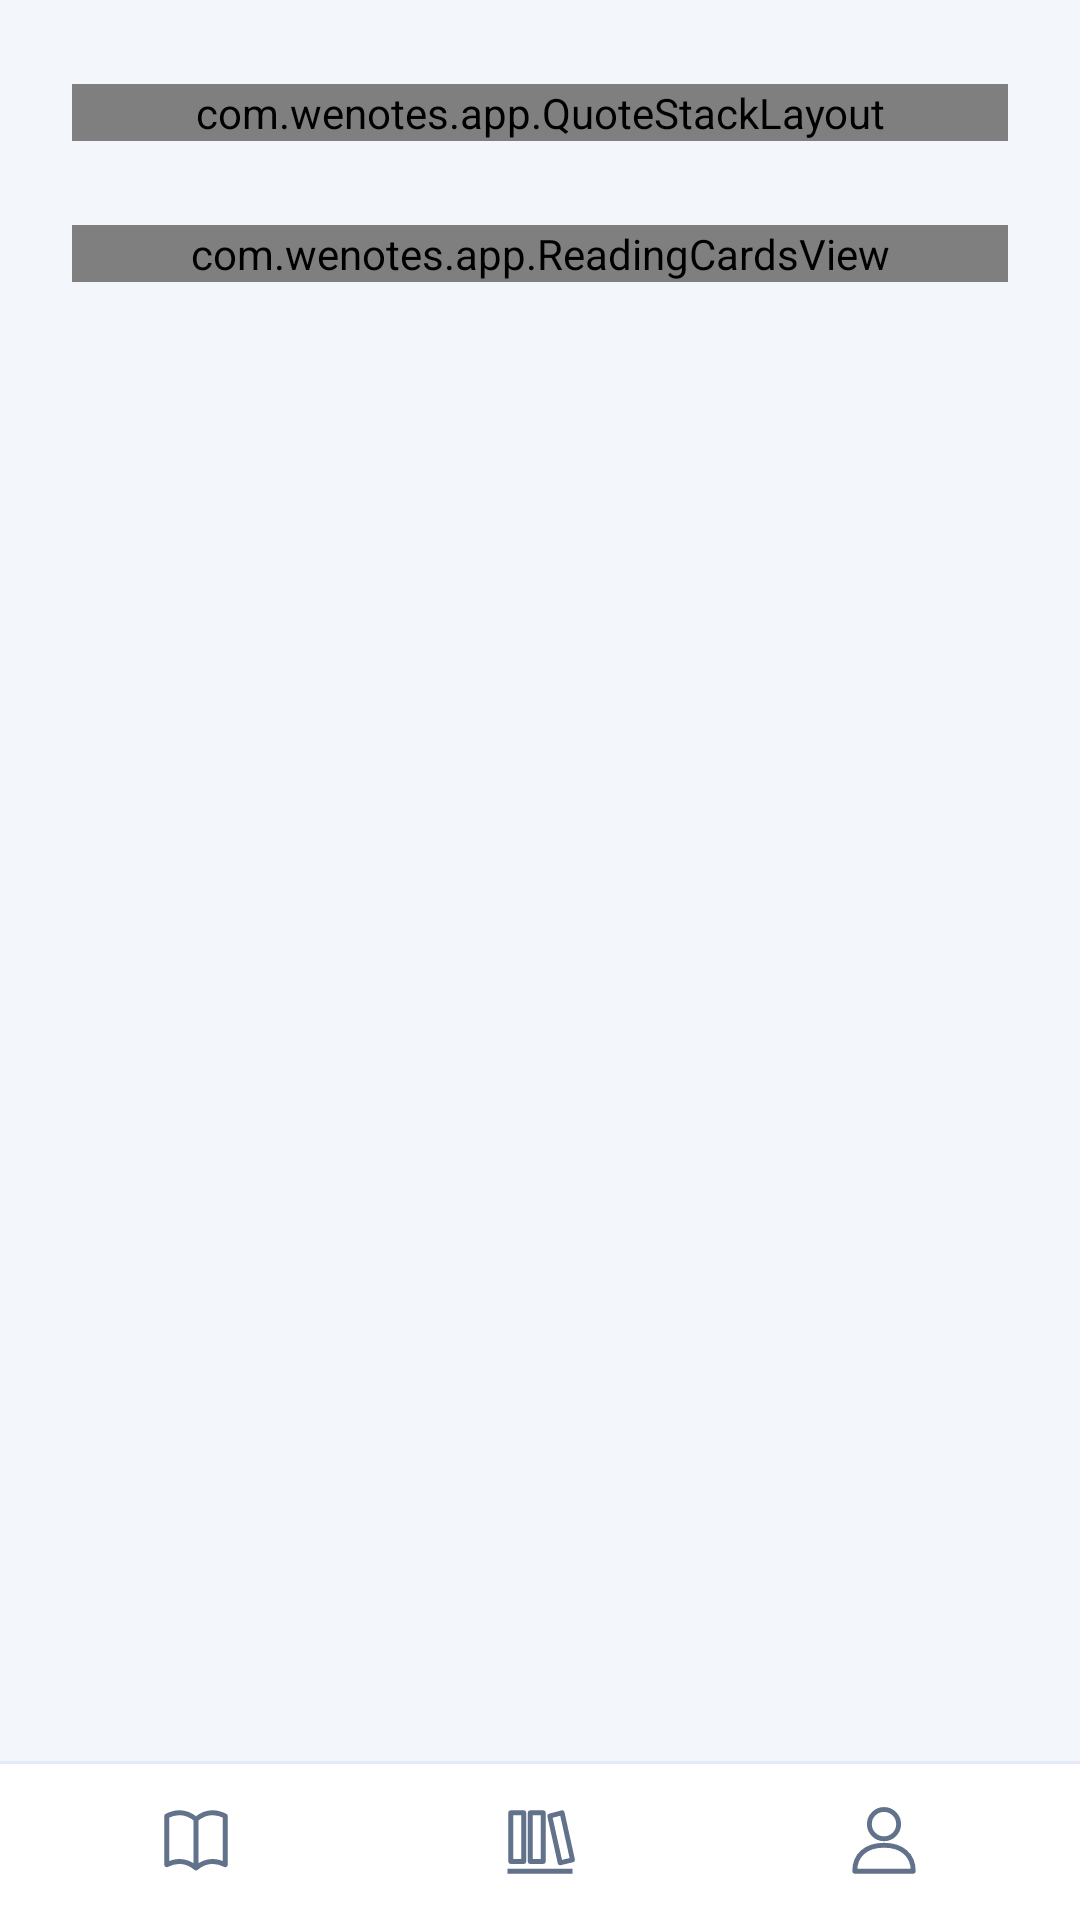

Icons on this 1080 × 1920 Android screen, each with its box as (x1, y1, x2, y2):
shelf: (507, 1810, 575, 1874)
